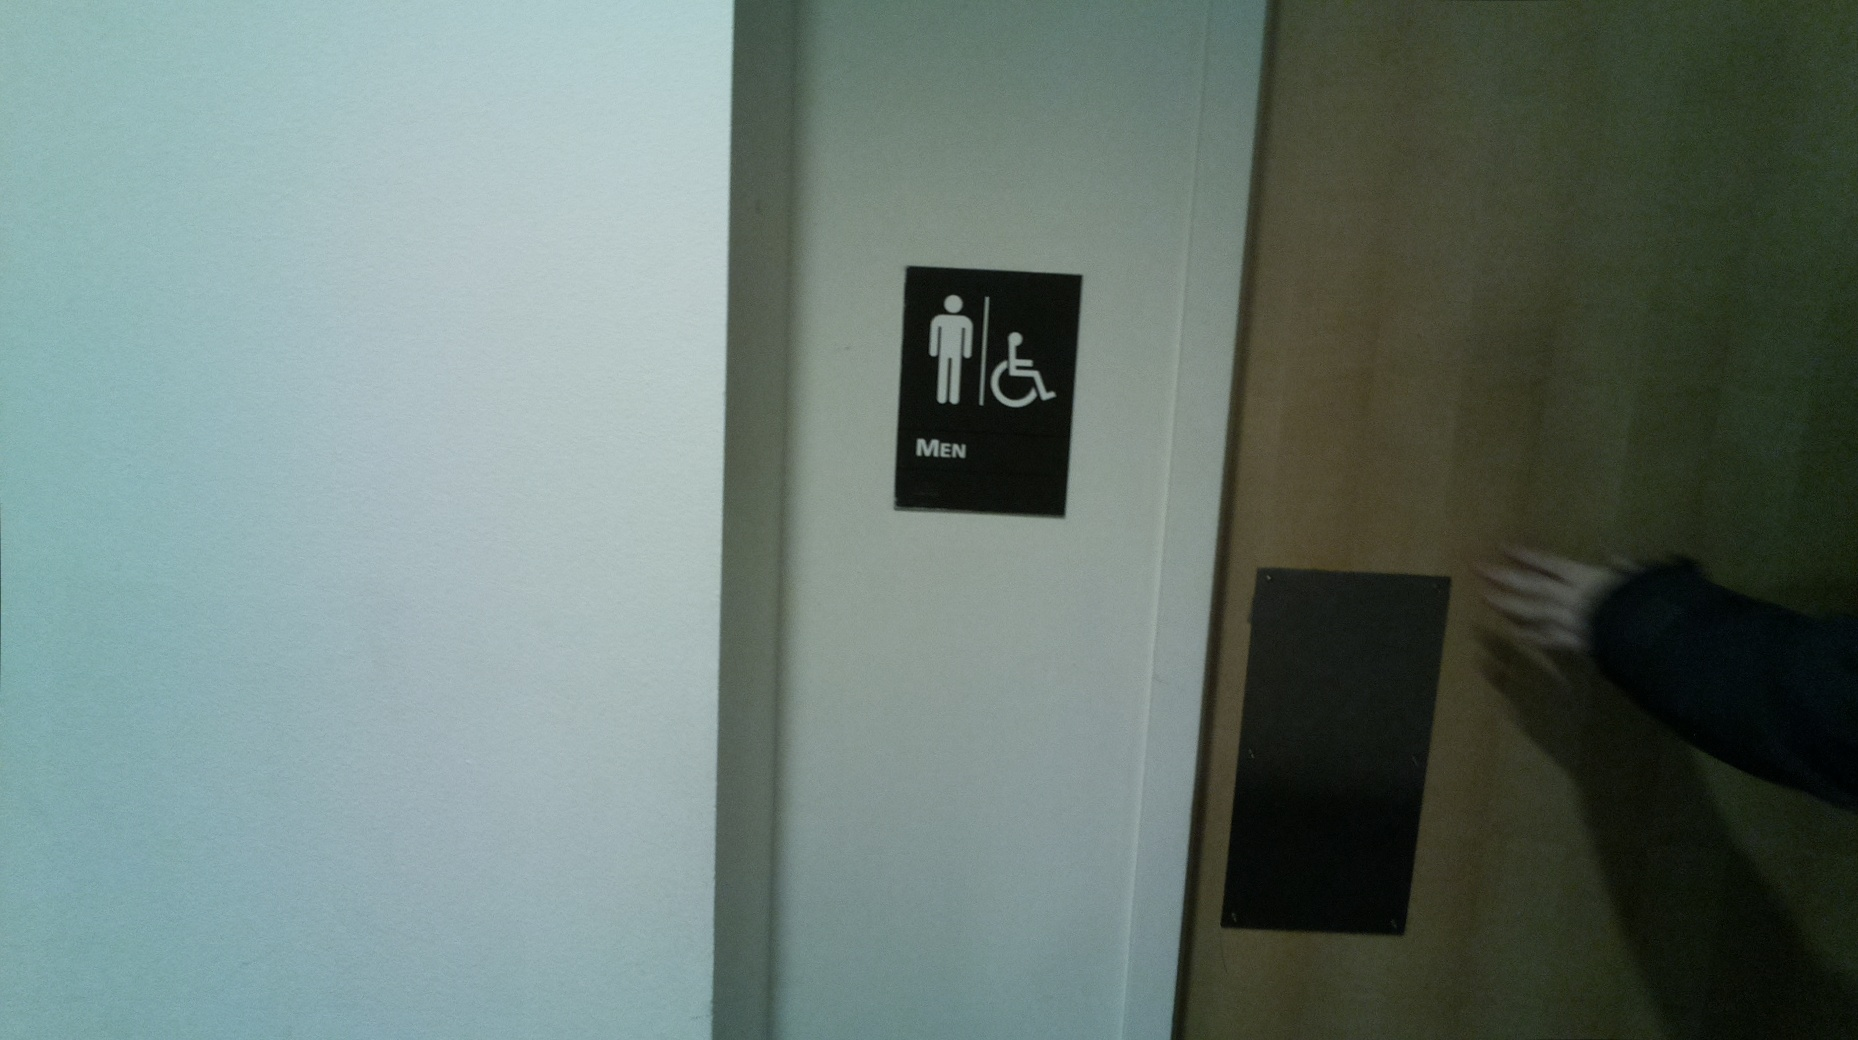bathroom sign: (887, 255, 1089, 528)
